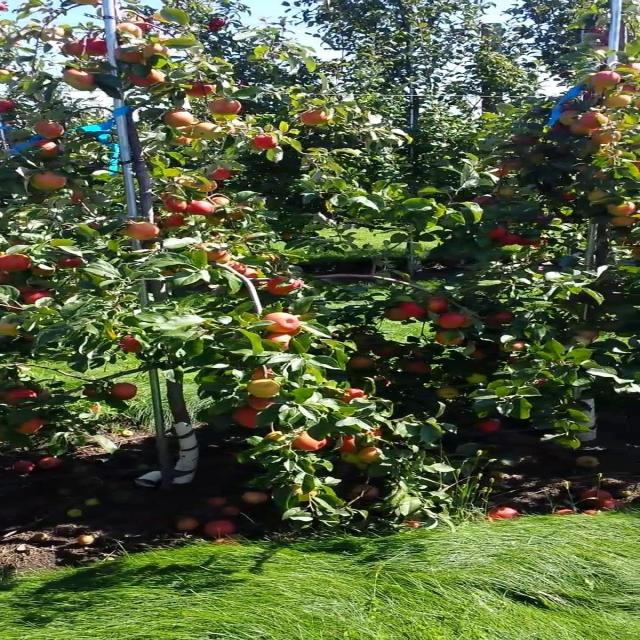apple: (262, 312, 300, 334), (291, 432, 332, 452), (35, 172, 69, 192), (6, 388, 39, 407), (248, 380, 284, 397), (63, 72, 96, 90), (127, 224, 164, 240), (35, 120, 66, 139), (198, 244, 228, 263), (589, 72, 624, 88), (589, 128, 624, 144), (269, 280, 302, 296), (234, 408, 258, 429), (163, 112, 194, 128), (134, 72, 164, 88), (20, 420, 50, 436), (298, 112, 329, 127), (212, 100, 242, 115), (262, 336, 292, 351), (6, 256, 34, 272), (340, 388, 368, 404), (582, 112, 610, 128), (184, 84, 213, 99), (248, 396, 277, 411), (113, 384, 140, 400), (397, 304, 427, 318), (141, 44, 171, 58), (440, 332, 466, 347), (42, 28, 68, 43), (84, 40, 108, 56), (191, 200, 215, 216), (35, 144, 62, 158), (440, 316, 469, 329), (348, 356, 375, 369), (604, 96, 633, 108), (205, 248, 228, 263), (255, 136, 277, 151), (362, 448, 384, 463), (611, 204, 638, 216), (611, 216, 638, 228), (340, 436, 359, 452), (163, 200, 188, 212), (28, 292, 52, 304), (426, 300, 450, 312), (490, 312, 514, 324), (205, 252, 229, 264), (120, 340, 142, 353), (497, 236, 523, 247), (212, 168, 235, 180), (525, 236, 548, 248), (205, 20, 228, 32), (163, 216, 185, 228), (63, 44, 85, 56), (440, 388, 462, 400), (120, 24, 142, 36), (568, 124, 590, 136), (120, 52, 142, 64), (198, 180, 220, 192), (255, 368, 277, 380), (383, 312, 411, 321), (404, 364, 432, 373), (241, 268, 261, 280), (227, 208, 247, 220), (511, 136, 537, 145), (483, 420, 501, 433), (212, 196, 233, 207), (525, 152, 546, 163), (561, 112, 580, 124), (490, 228, 510, 239), (504, 160, 524, 171), (497, 188, 519, 198), (575, 332, 599, 341), (205, 216, 228, 225), (177, 124, 197, 134), (504, 236, 524, 246), (589, 192, 608, 202), (198, 124, 219, 133), (340, 456, 361, 465), (468, 376, 491, 384), (212, 116, 235, 124), (6, 324, 21, 336), (511, 340, 526, 352), (70, 192, 85, 204), (63, 260, 85, 268), (35, 268, 57, 276), (6, 100, 20, 112), (376, 348, 396, 356), (35, 140, 55, 148), (177, 136, 194, 145), (269, 432, 284, 442), (476, 196, 494, 204), (561, 104, 578, 112), (561, 192, 576, 201), (497, 168, 512, 177), (234, 264, 249, 273), (163, 268, 178, 277), (84, 388, 100, 396), (625, 84, 639, 93), (554, 124, 569, 132), (371, 428, 384, 437), (476, 348, 485, 360), (141, 24, 153, 33), (163, 196, 181, 202), (92, 224, 101, 232), (511, 356, 519, 363), (540, 380, 548, 386), (28, 336, 36, 342)
